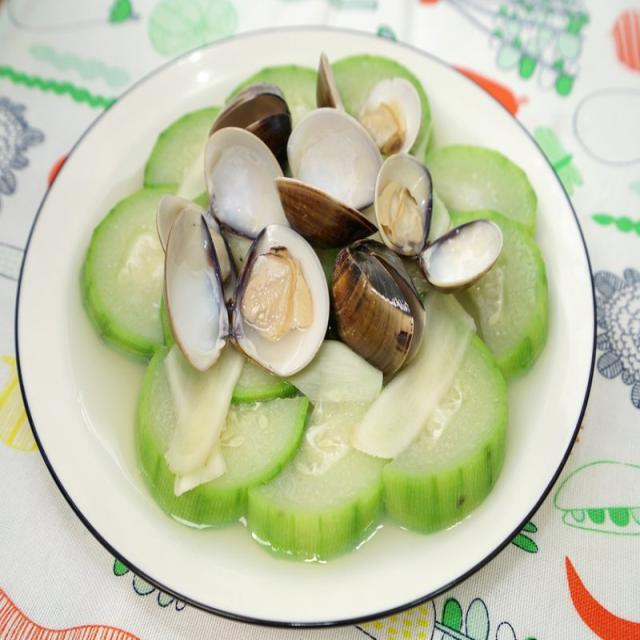Wet: (73, 107, 529, 512)
